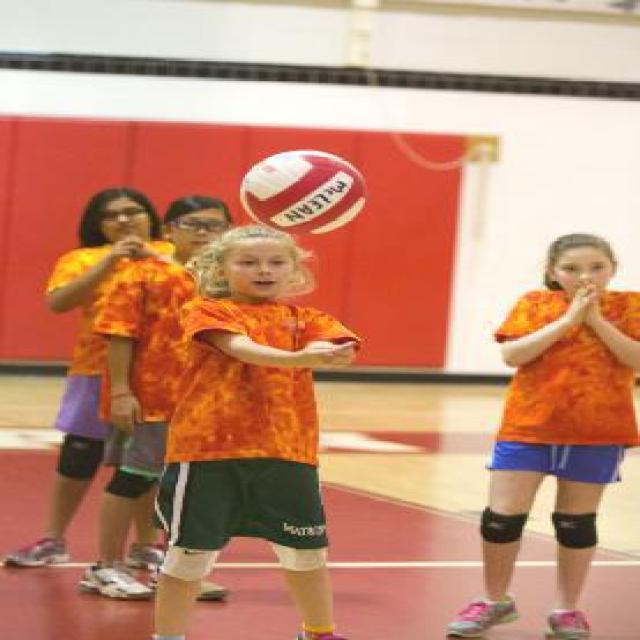volleyball: (238, 150, 368, 237)
